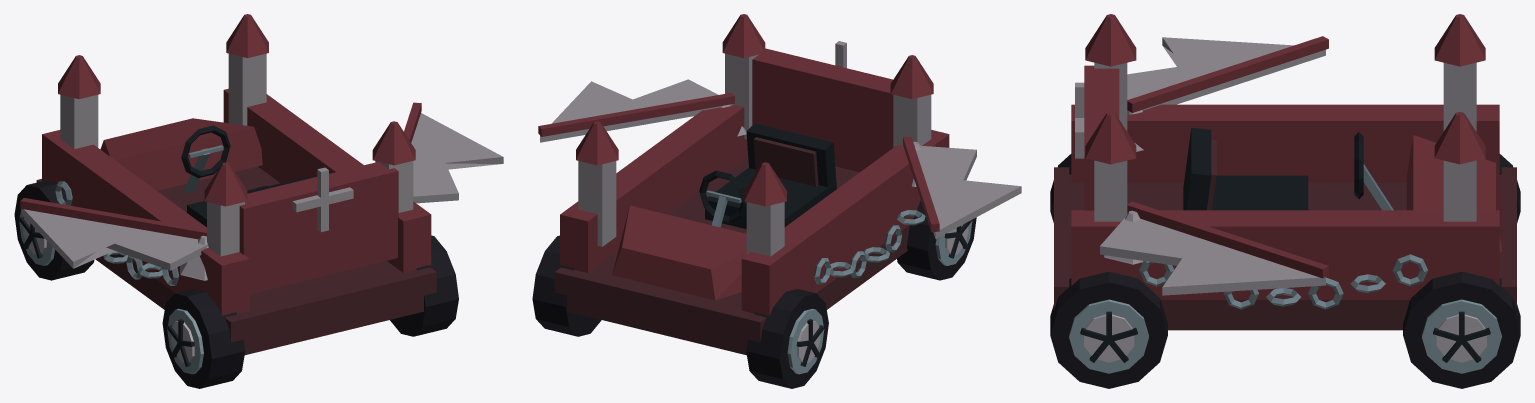
Rendered from kart.glb.
The picture shows the model from 3 angles, left to right: view 1: azimuth 30°, elevation 25°; view 2: azimuth 150°, elevation 25°; view 3: azimuth 270°, elevation 25°; orthographic projection. The views are drawn at different scales.
Parts seen in each view (by area): view 1: identity-reliquary-reliquary-arched-stone-chest, identity-reliquary-motif-dragon-wings, wheel-rear-left, wheel-front-left, wheel-rear-right, identity-reliquary-driver-cockpit, identity-reliquary-motif-chains, identity-reliquary-motif-gems; view 2: identity-reliquary-reliquary-arched-stone-chest, identity-reliquary-motif-dragon-wings, identity-reliquary-driver-cockpit, wheel-front-left, wheel-rear-left, wheel-front-right, identity-reliquary-motif-chains; view 3: identity-reliquary-reliquary-arched-stone-chest, identity-reliquary-motif-dragon-wings, wheel-front-right, wheel-rear-right, identity-reliquary-driver-cockpit, identity-reliquary-motif-chains.
Boxes of the visible parts, left/top/right/bottom form: identity-reliquary-reliquary-arched-stone-chest: left=36, top=14, right=436, bottom=355; identity-reliquary-motif-dragon-wings: left=20, top=102, right=503, bottom=270; wheel-rear-left: left=162, top=289, right=245, bottom=388; wheel-front-left: left=14, top=180, right=94, bottom=280; wheel-rear-right: left=390, top=235, right=458, bottom=336; identity-reliquary-driver-cockpit: left=181, top=125, right=309, bottom=227; identity-reliquary-motif-chains: left=55, top=181, right=178, bottom=285; identity-reliquary-motif-gems: left=180, top=235, right=208, bottom=280; identity-reliquary-reliquary-arched-stone-chest: left=554, top=14, right=949, bottom=355; identity-reliquary-motif-dragon-wings: left=538, top=79, right=1021, bottom=238; identity-reliquary-driver-cockpit: left=699, top=123, right=836, bottom=229; wheel-front-left: left=746, top=289, right=828, bottom=388; wheel-rear-left: left=897, top=200, right=976, bottom=280; wheel-front-right: left=532, top=235, right=601, bottom=336; identity-reliquary-motif-chains: left=814, top=210, right=925, bottom=284; identity-reliquary-reliquary-arched-stone-chest: left=1054, top=14, right=1516, bottom=330; identity-reliquary-motif-dragon-wings: left=1100, top=36, right=1328, bottom=295; wheel-front-right: left=1403, top=271, right=1520, bottom=388; wheel-rear-right: left=1050, top=271, right=1167, bottom=388; identity-reliquary-driver-cockpit: left=1183, top=127, right=1393, bottom=210; identity-reliquary-motif-chains: left=1139, top=254, right=1427, bottom=309.
Bounding box in the file's own units: 3.22 × 1.51 × 2.56.
